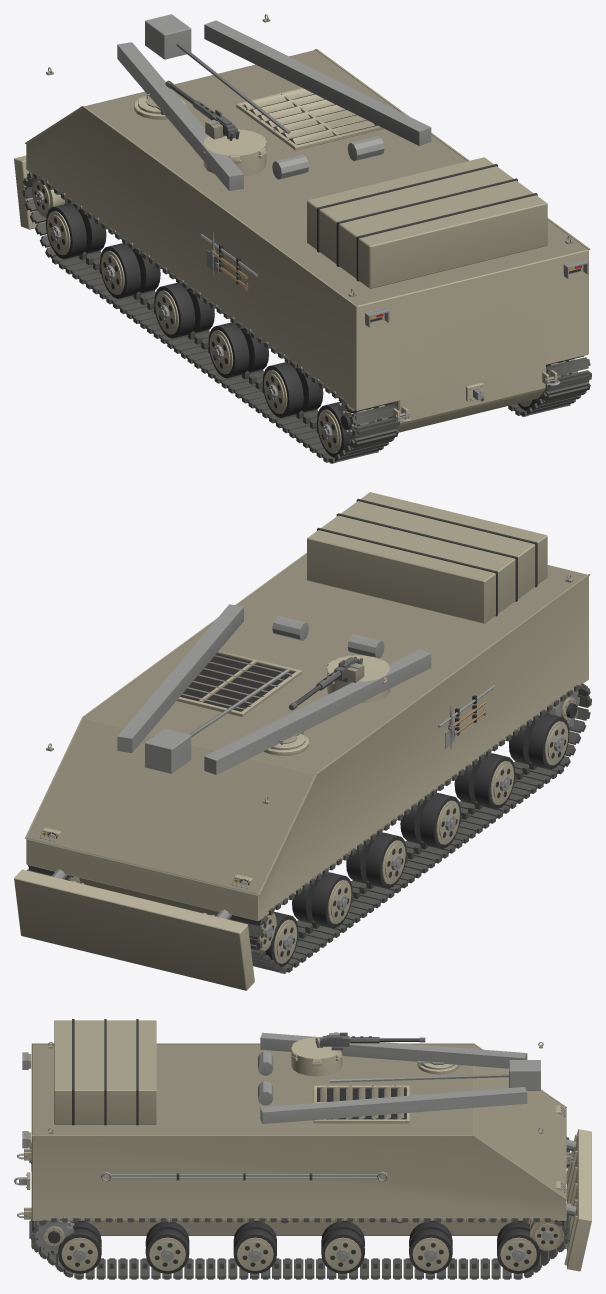
File: rus_eng_imr.glb
3 renders of one model, top to bottom at view 1: azimuth 30°, elevation 25°; view 2: azimuth 150°, elevation 25°; view 3: azimuth 270°, elevation 25°, orthographic. The views are drawn at different scales.
Parts seen in each view (by area): view 1: body, turret, barrel; view 2: body, turret, barrel; view 3: body, turret, barrel.
Boxes of the visible parts, left/top/right/bottom form: body: left=14, top=14, right=591, bottom=463; turret: left=203, top=129, right=266, bottom=176; barrel: left=165, top=80, right=239, bottom=140; body: left=14, top=492, right=591, bottom=990; turret: left=326, top=655, right=389, bottom=703; barrel: left=289, top=656, right=364, bottom=710; body: left=14, top=1019, right=591, bottom=1279; turret: left=291, top=1037, right=342, bottom=1076; barrel: left=315, top=1032, right=425, bottom=1050.
Bounding box in the file's own units: 3.52 × 3.07 × 9.02.
